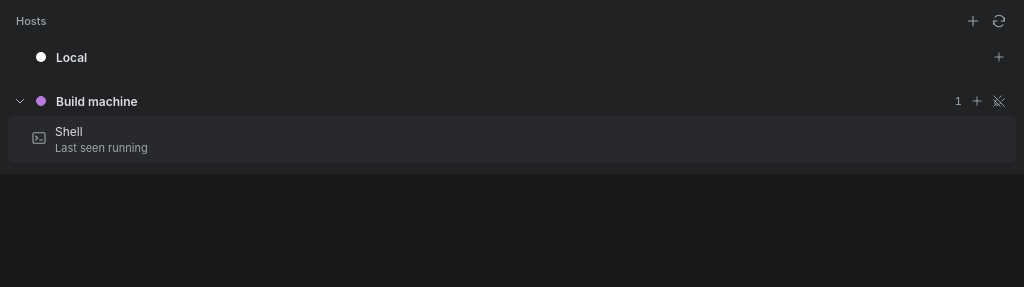
it: SessionSidebar › opens host details on keyboard focus with sessions present=true
Expected: the text "SSH connected" is not shown
Focus the button "Build machine 1" at (97, 101), box [14,86,962,116]
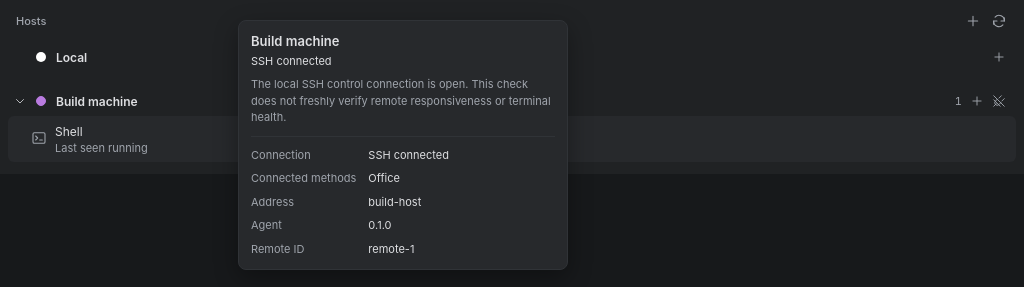
Now the tooltip shows "SSH connected", box [251,54,332,68]
Now the tooltip shows "Office", box [368,171,400,185]
Now the tooltip shows "remote-1", box [368,242,414,256]
Press Escape in the button "Build machine 1", box [14,86,962,116]
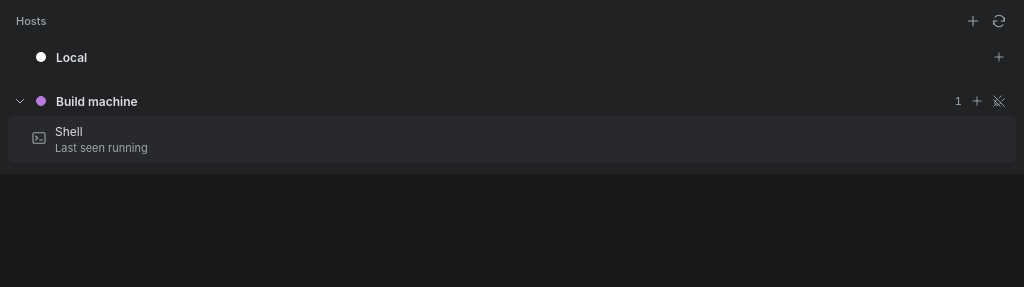
Now the tooltip is gone
